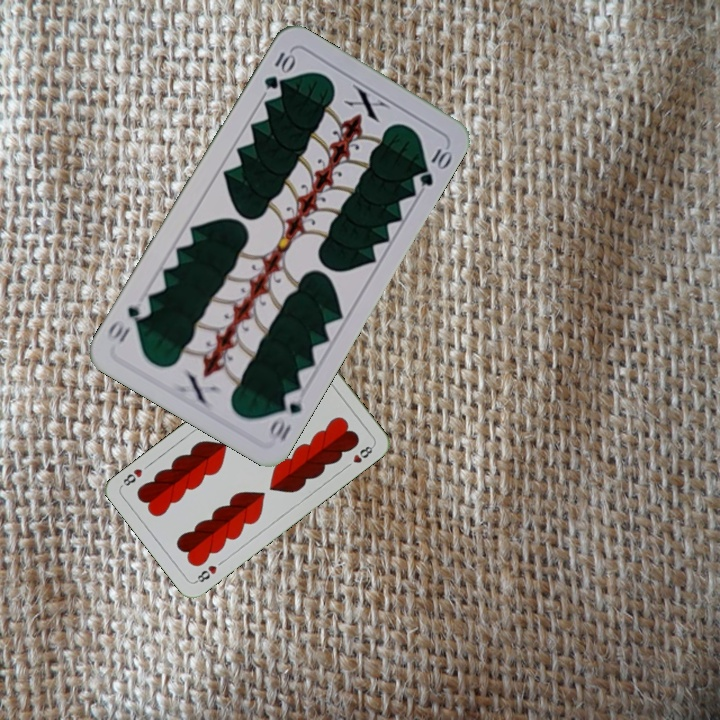G10: (265, 386, 307, 444), (259, 47, 297, 92)
H8: (191, 561, 220, 586)
